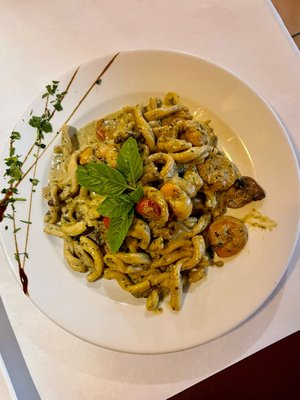sushi: (10, 48, 298, 348)
